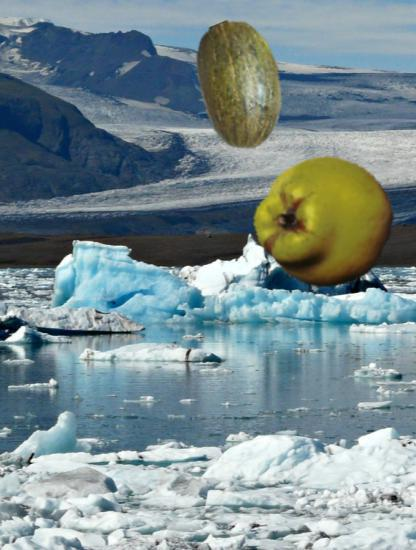Melon: (176, 20, 306, 150)
Quince: (254, 152, 395, 293)
